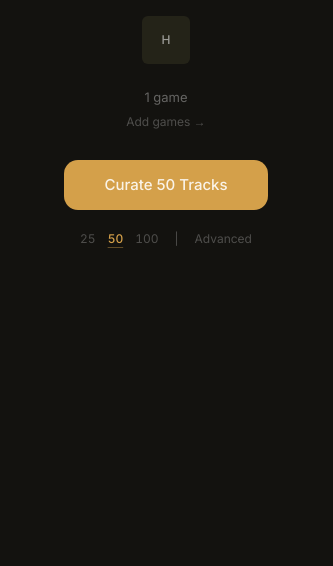
Test: Launchpad › when library has games › should reveal Custom + Long/Short rows when Advanced is clicked
This screenshot has width=333, height=566.
Click the button "Advanced". click: (223, 239)
box: x1=194 y1=230 x2=252 y2=248
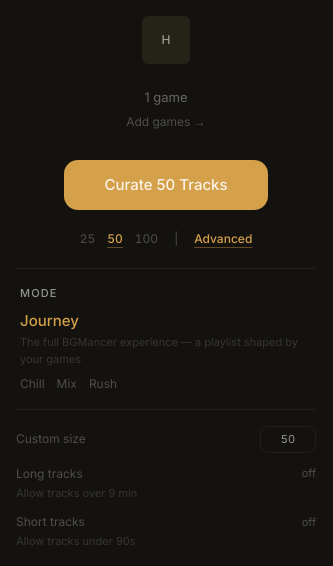
Expected: the button "Long tracks off Allow tracks over 9 min" is shown, x1=16 y1=464 x2=316 y2=501
Expected: the button "Short tracks off Allow tracks under 90s" is shown, x1=16 y1=513 x2=316 y2=550
